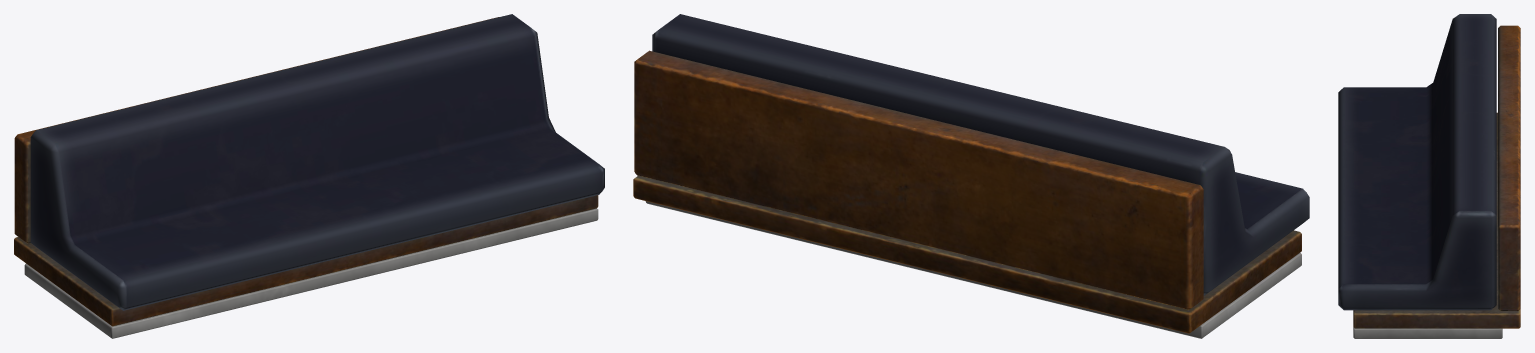
The model's file is SM_Sofa001_wide.glb.
3 views of the same model, side by side, from view 1: azimuth 30°, elevation 25°; view 2: azimuth 150°, elevation 25°; view 3: azimuth 270°, elevation 25° (orthographic). The views are drawn at different scales.
Parts seen in each view (by area): view 1: SM_Sofa002; view 2: SM_Sofa002; view 3: SM_Sofa002.
Boxes of the visible parts, box(x1,y1,x2,y2) form: SM_Sofa002: box(14, 14, 604, 338); SM_Sofa002: box(633, 14, 1309, 338); SM_Sofa002: box(1338, 14, 1520, 338).
Size of the model in its own units: 4 by 1.17 by 1.53.
Materials: 1 (1 with a texture image).
